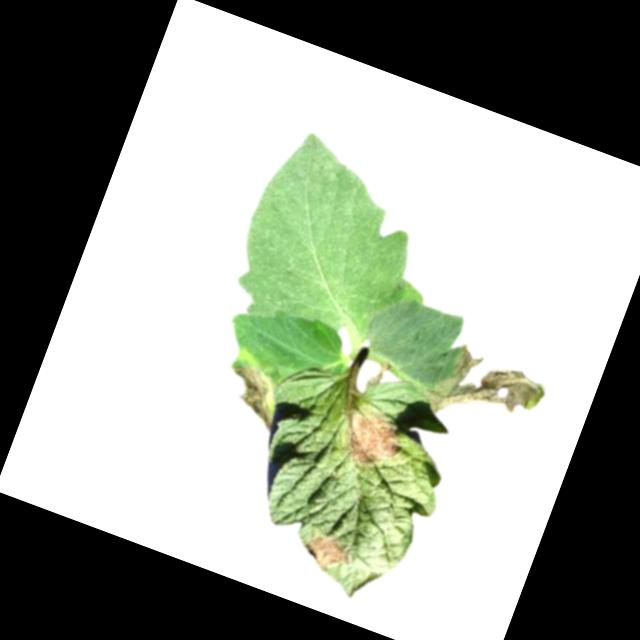Late_blight: (419, 336, 552, 448), (208, 343, 294, 433), (329, 398, 411, 476), (296, 526, 358, 583)
